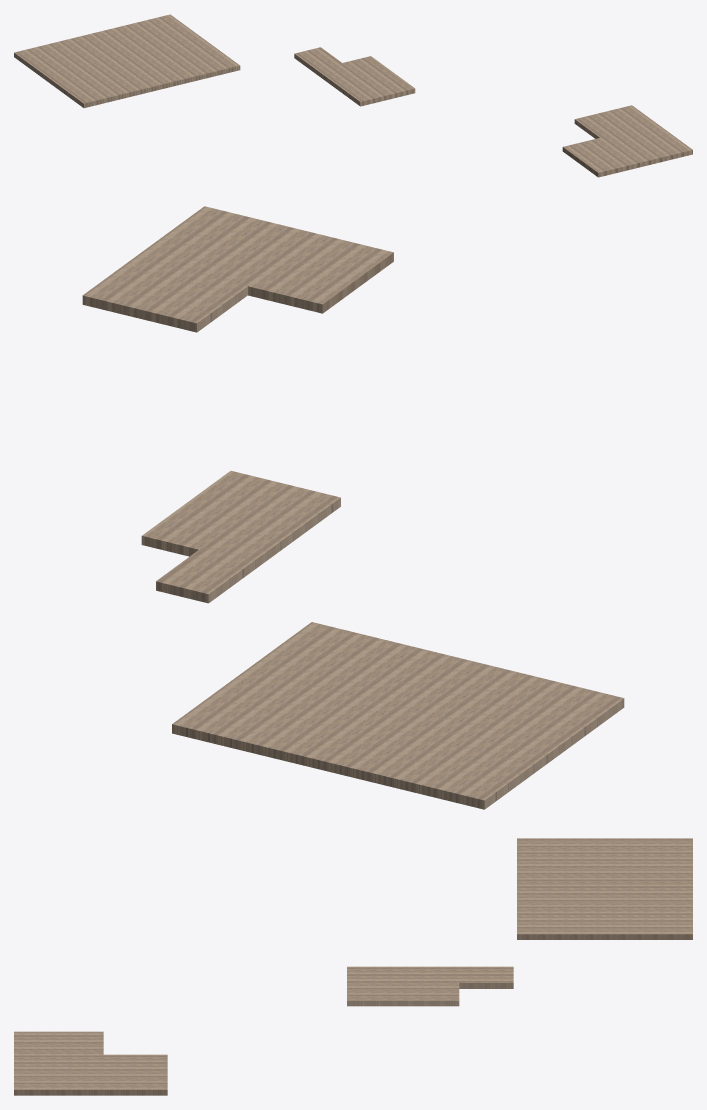
Rendered from 1989_bathroom_Floor_RivergroveValorOak_.gltf.
3 renders of one model, top to bottom at view 1: azimuth 30°, elevation 25°; view 2: azimuth 150°, elevation 25°; view 3: azimuth 270°, elevation 25°, orthographic. The views are drawn at different scales.
Parts seen in each view (by area): view 1: Floors_rivergrove_valor_oak; view 2: Floors_rivergrove_valor_oak; view 3: Floors_rivergrove_valor_oak.
Part boxes in pixels (x1=…): Floors_rivergrove_valor_oak: x1=14, y1=14, x2=692, y2=177; Floors_rivergrove_valor_oak: x1=82, y1=206, x2=624, y2=809; Floors_rivergrove_valor_oak: x1=14, y1=838, x2=692, y2=1095.
Bounding box in the file's own units: 18.6 × 0.2 × 21.2.
Materials: 1 (1 with a texture image).
